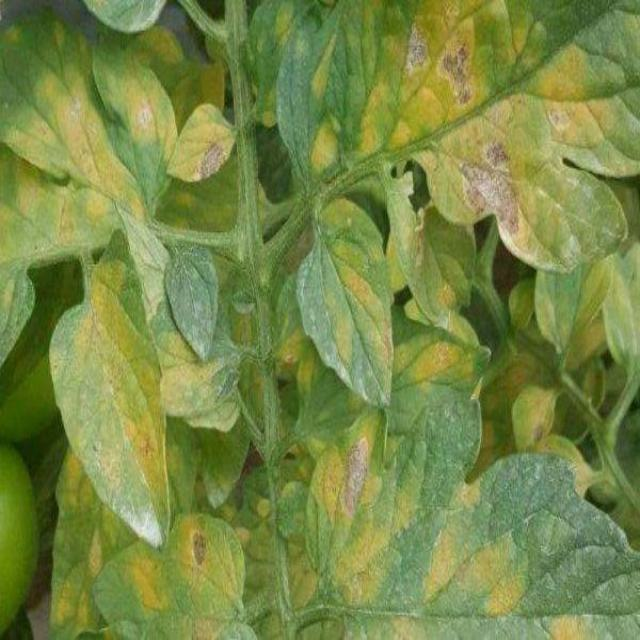Leaf_Mold: (351, 1, 640, 270), (47, 244, 171, 553), (1, 64, 176, 260), (307, 424, 414, 607), (426, 489, 530, 620), (504, 383, 594, 497), (173, 515, 244, 640), (325, 272, 394, 376), (158, 322, 233, 415), (390, 329, 474, 399), (164, 105, 235, 181), (51, 529, 100, 638), (276, 324, 317, 407), (119, 554, 172, 611), (298, 113, 340, 177), (303, 28, 339, 99), (547, 611, 597, 640)
